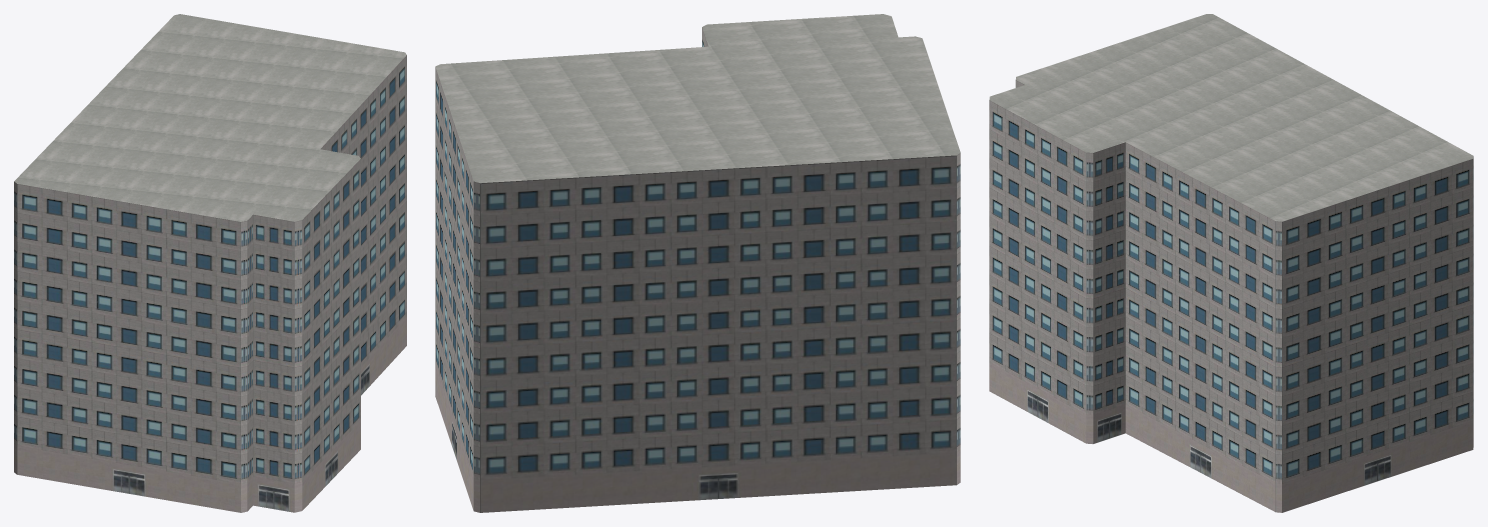
3 renders of one model, left to right at view 1: azimuth 30°, elevation 25°; view 2: azimuth 150°, elevation 25°; view 3: azimuth 270°, elevation 25°, orthographic. The views are drawn at different scales.
Parts seen in each view (by area): view 1: BuildingMaster_1982193727384464284200000000_0, BuildingMaster_1982193727384464284200000000_1; view 2: BuildingMaster_1982193727384464284200000000_0, BuildingMaster_1982193727384464284200000000_1; view 3: BuildingMaster_1982193727384464284200000000_0, BuildingMaster_1982193727384464284200000000_1.
Boxes of the visible parts, left/top/right/bottom form: BuildingMaster_1982193727384464284200000000_0: left=14, top=55, right=406, bottom=512; BuildingMaster_1982193727384464284200000000_1: left=14, top=14, right=406, bottom=221; BuildingMaster_1982193727384464284200000000_0: left=435, top=28, right=960, bottom=512; BuildingMaster_1982193727384464284200000000_1: left=435, top=14, right=960, bottom=183; BuildingMaster_1982193727384464284200000000_0: left=989, top=80, right=1473, bottom=512; BuildingMaster_1982193727384464284200000000_1: left=989, top=14, right=1473, bottom=221.
Size of the model in its own units: 53.6 by 35 by 52.75.
2 materials, 2 textured.
